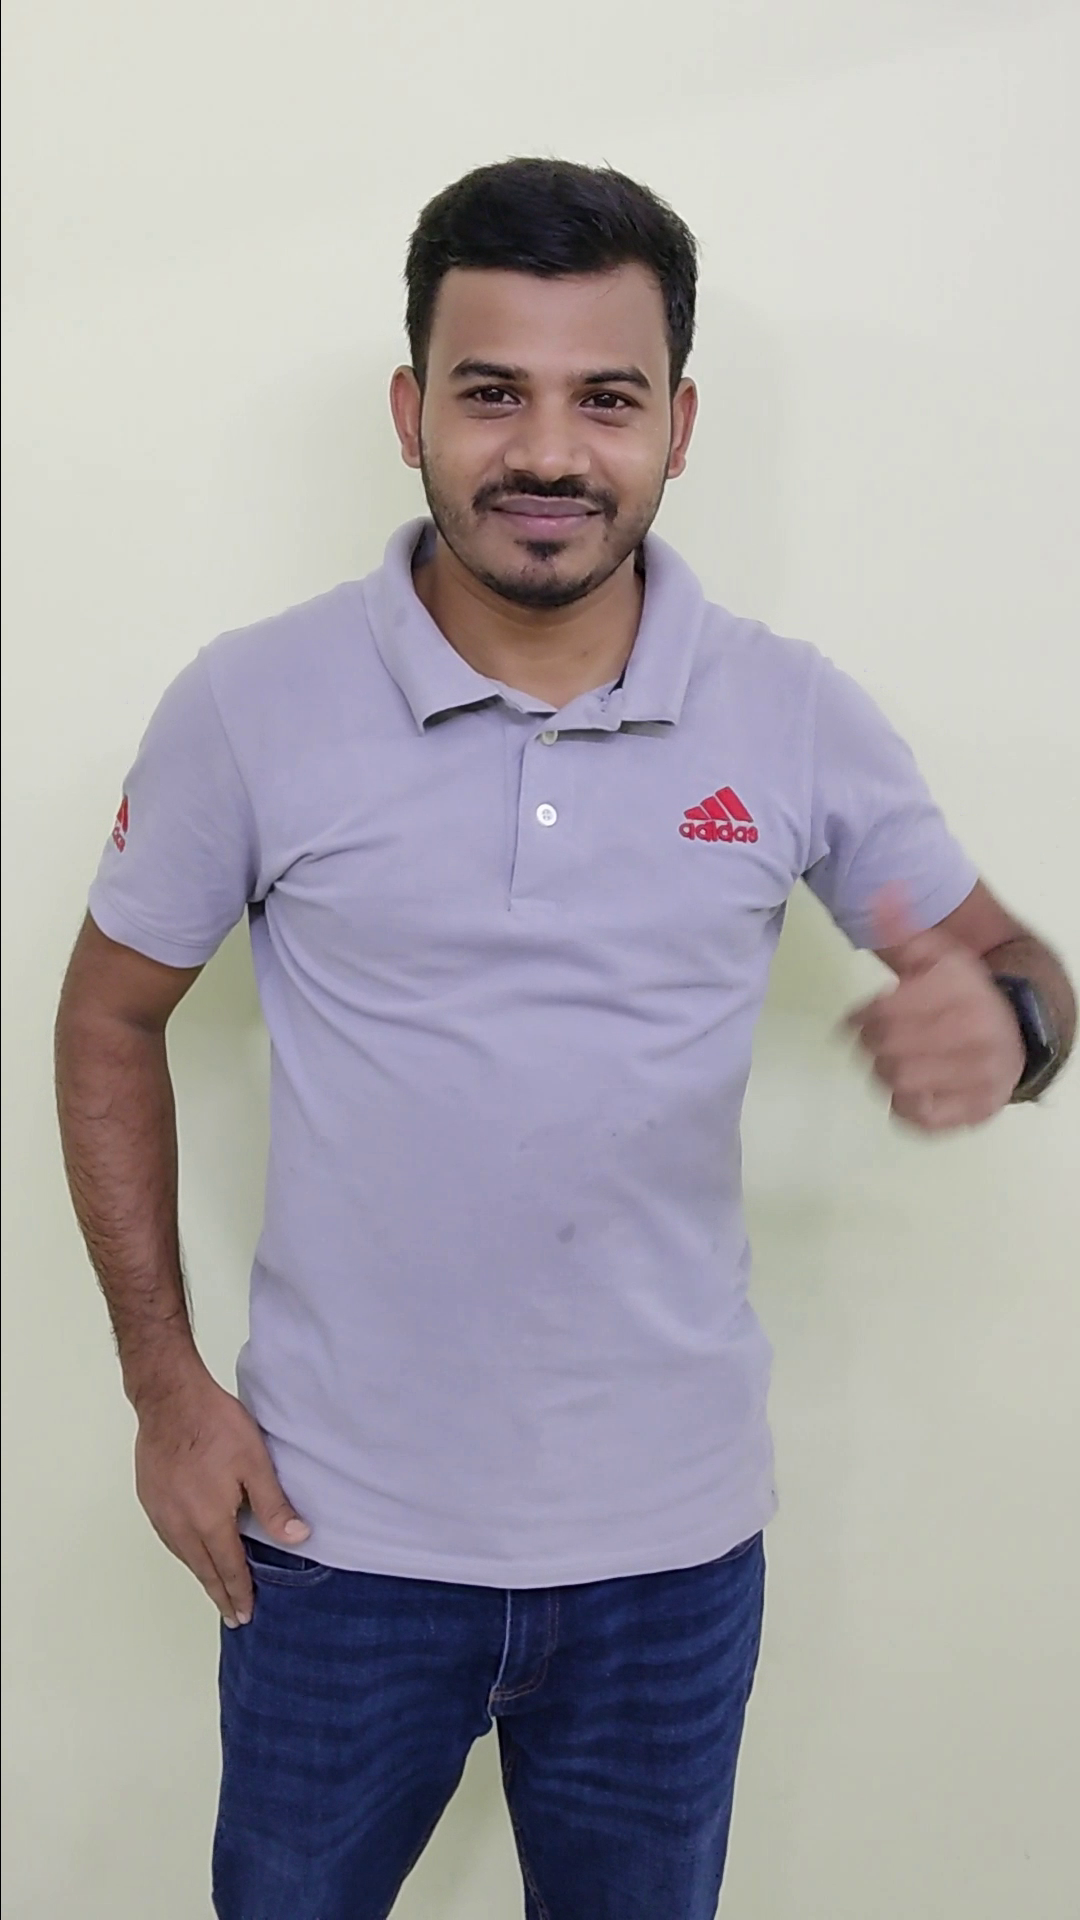Like: (814, 884, 1052, 1156)
None: (94, 1360, 318, 1651)
